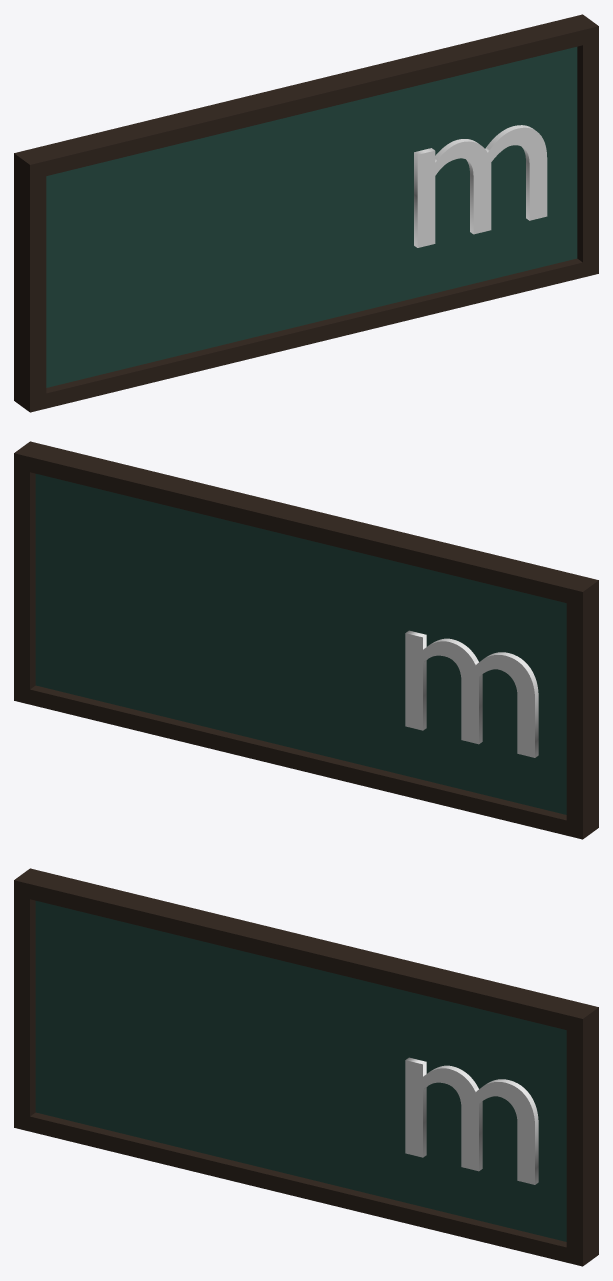
The model's file is DistanceTracker1.fbx.
The picture shows the model from 3 angles, top to bottom: view 1: azimuth 30°, elevation 25°; view 2: azimuth 150°, elevation 25°; view 3: azimuth 330°, elevation 25°; orthographic projection.
Parts seen in each view (by area): view 1: Cube, Text.001; view 2: Cube, Text.003; view 3: Cube, Text.001.
Boxes of the visible parts, bbox=[...] form: Cube: bbox=[14, 14, 598, 412]; Text.001: bbox=[414, 125, 547, 247]; Cube: bbox=[14, 441, 598, 839]; Text.003: bbox=[405, 630, 538, 757]; Cube: bbox=[14, 868, 598, 1266]; Text.001: bbox=[405, 1057, 538, 1184].
Bounding box in the file's own units: 287 × 119 × 14.08.
